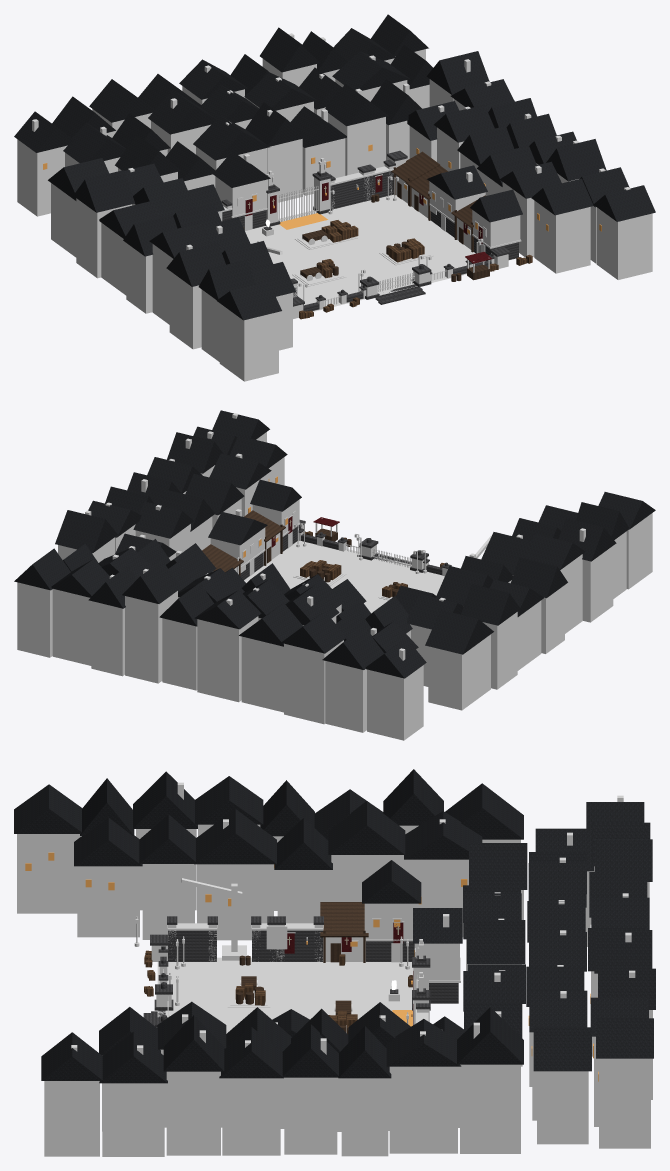
File: town_cargo_02.fbx
3 renders of one model, top to bottom at view 1: azimuth 30°, elevation 25°; view 2: azimuth 150°, elevation 25°; view 3: azimuth 270°, elevation 25°, orthographic. The views are drawn at different scales.
Parts seen in each view (by area): view 1: _MeshInstance3D_1182, _MeshInstance3D_1490, _MeshInstance3D_1605, _MeshInstance3D_1574, _MeshInstance3D_1281, _MeshInstance3D_1240, _MeshInstance3D_1484, _MeshInstance3D_1230, _MeshInstance3D_1232, _MeshInstance3D_1471, _MeshInstance3D_1472, _MeshInstance3D_1276 (+73 smaller); view 2: _MeshInstance3D_1182, _MeshInstance3D_1281, _MeshInstance3D_1469, _MeshInstance3D_1293, _MeshInstance3D_1299, _MeshInstance3D_1288, _MeshInstance3D_1290, _MeshInstance3D_1307, _MeshInstance3D_1285, _MeshInstance3D_1311, _MeshInstance3D_1296, _MeshInstance3D_1303 (+65 smaller); view 3: _MeshInstance3D_1182, _MeshInstance3D_1582, _MeshInstance3D_1578, _MeshInstance3D_1311, _MeshInstance3D_1490, _MeshInstance3D_1596, _MeshInstance3D_1601, _MeshInstance3D_1593, _MeshInstance3D_1458, _MeshInstance3D_1465, _MeshInstance3D_1605, _MeshInstance3D_1588 (+68 smaller).
Boxes of the visible parts, bbox=[...] form: _MeshInstance3D_1182: bbox=[245, 194, 484, 311]; _MeshInstance3D_1490: bbox=[219, 303, 278, 381]; _MeshInstance3D_1605: bbox=[596, 207, 652, 279]; _MeshInstance3D_1574: bbox=[534, 200, 590, 273]; _MeshInstance3D_1281: bbox=[17, 139, 67, 216]; _MeshInstance3D_1240: bbox=[328, 113, 385, 175]; _MeshInstance3D_1484: bbox=[169, 271, 201, 349]; _MeshInstance3D_1230: bbox=[193, 115, 269, 160]; _MeshInstance3D_1232: bbox=[267, 139, 302, 202]; _MeshInstance3D_1471: bbox=[76, 198, 131, 278]; _MeshInstance3D_1472: bbox=[73, 170, 134, 212]; _MeshInstance3D_1276: bbox=[332, 51, 409, 90]; _MeshInstance3D_1182: bbox=[244, 541, 444, 613]; _MeshInstance3D_1281: bbox=[367, 665, 423, 740]; _MeshInstance3D_1469: bbox=[428, 634, 490, 710]; _MeshInstance3D_1293: bbox=[197, 616, 258, 702]; _MeshInstance3D_1299: bbox=[125, 591, 177, 683]; _MeshInstance3D_1288: bbox=[284, 640, 343, 724]; _MeshInstance3D_1290: bbox=[241, 636, 283, 712]; _MeshInstance3D_1307: bbox=[52, 589, 91, 665]; _MeshInstance3D_1285: bbox=[325, 661, 366, 732]; _MeshInstance3D_1311: bbox=[17, 582, 52, 657]; _MeshInstance3D_1296: bbox=[162, 618, 197, 690]; _MeshInstance3D_1303: bbox=[91, 601, 124, 676]; _MeshInstance3D_1182: bbox=[157, 957, 412, 1033]; _MeshInstance3D_1582: bbox=[389, 1066, 457, 1153]; _MeshInstance3D_1578: bbox=[460, 1064, 520, 1153]; _MeshInstance3D_1311: bbox=[599, 1058, 650, 1148]; _MeshInstance3D_1490: bbox=[17, 834, 80, 913]; _MeshInstance3D_1596: bbox=[166, 1071, 220, 1155]; _MeshInstance3D_1601: bbox=[102, 1083, 164, 1156]; _MeshInstance3D_1593: bbox=[222, 1078, 280, 1155]; _MeshInstance3D_1458: bbox=[197, 864, 273, 940]; _MeshInstance3D_1465: bbox=[77, 866, 139, 937]; _MeshInstance3D_1605: bbox=[44, 1081, 99, 1156]; _MeshInstance3D_1588: bbox=[284, 1077, 337, 1154].
Size of what is drawn, in the model's own units: 6186 by 1532 by 6188.
